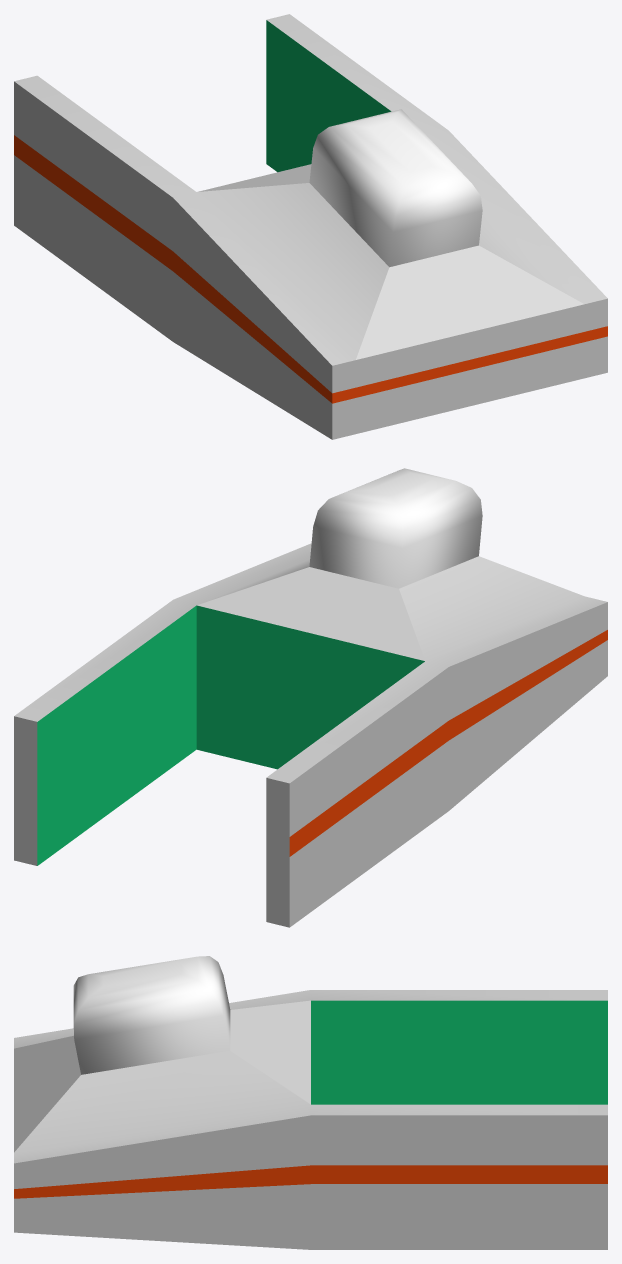
The model's file is Drone_Big.fbx.
3 views of the same model, one above another, from view 1: azimuth 30°, elevation 25°; view 2: azimuth 150°, elevation 25°; view 3: azimuth 270°, elevation 25° (orthographic). The views are drawn at different scales.
Parts seen in each view (by area): view 1: Box001, Object001; view 2: Box001, Object001; view 3: Box001, Object001.
Part boxes in pixels (x1,y1,x2,y2): Box001: (14,14,607,439); Object001: (309,109,482,267); Box001: (14,543,607,927); Object001: (309,468,482,588); Box001: (14,990,607,1249); Object001: (73,956,230,1074).
Size of the model in its own units: 39.37 by 33.65 by 78.74.
